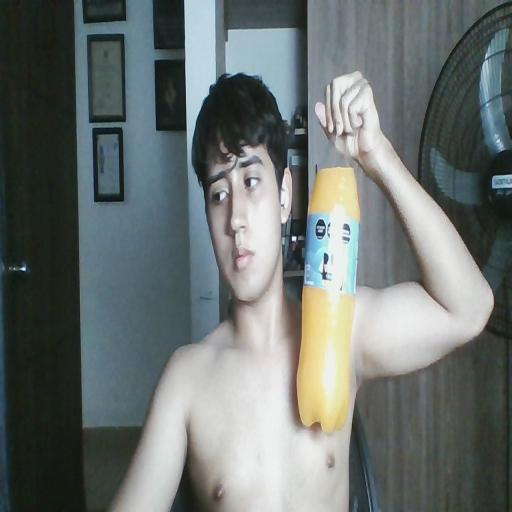Jugo del valle: (297, 168, 359, 432)
